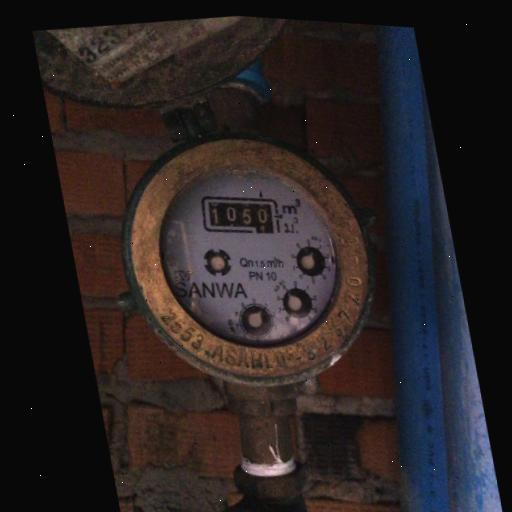0: (252, 202, 275, 235), (221, 200, 241, 228)
1: (205, 200, 225, 228)
5: (236, 201, 256, 229)
border_water_meter_number: (196, 185, 288, 246)
